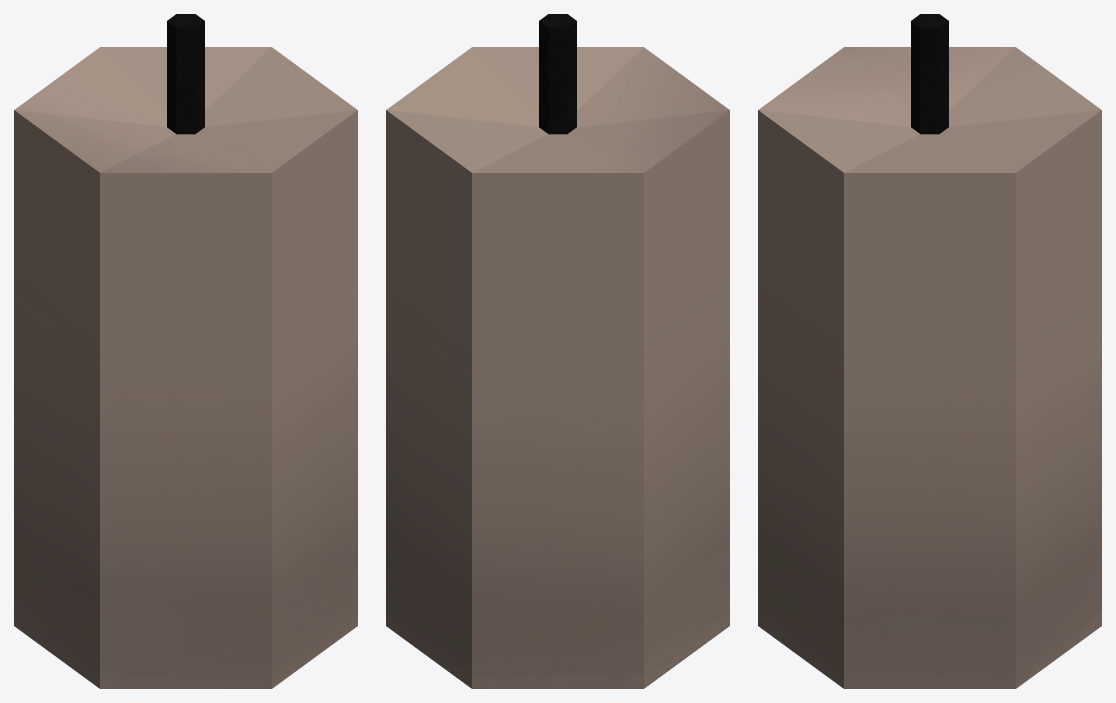
File: F_Candle_1.fbx
3 renders of one model, left to right at view 1: azimuth 30°, elevation 25°; view 2: azimuth 150°, elevation 25°; view 3: azimuth 270°, elevation 25°, orthographic.
Parts seen in each view (by area): view 1: F_Candle; view 2: F_Candle; view 3: F_Candle.
Part boxes in pixels (box(x1,y1,x2,y2)): F_Candle: box(14, 14, 357, 688); F_Candle: box(386, 14, 729, 688); F_Candle: box(758, 14, 1101, 688).
Size of the model in its own units: 0.214 by 0.4156 by 0.1853.
1 material, 1 textured.
